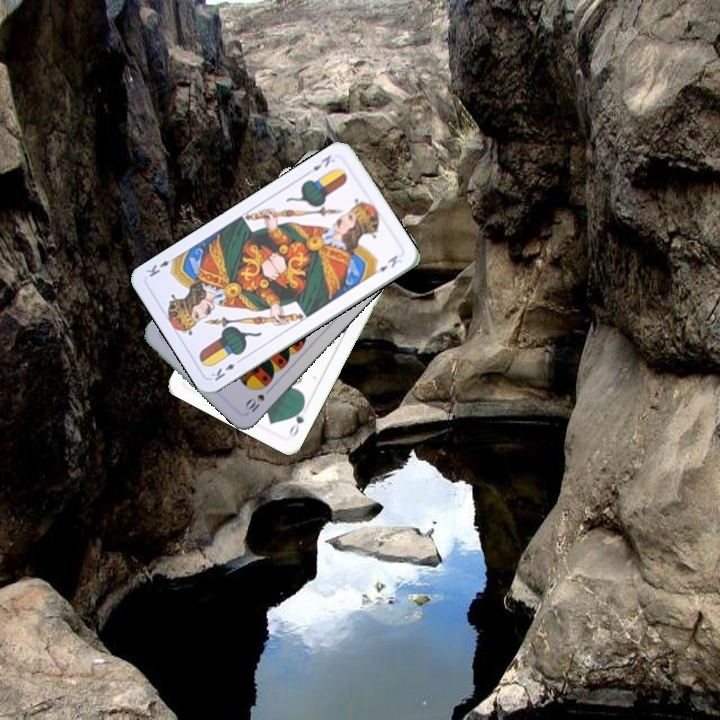EK: (207, 354, 245, 384), (302, 151, 334, 176)
GO: (285, 400, 307, 439)
S10: (240, 390, 267, 416)
